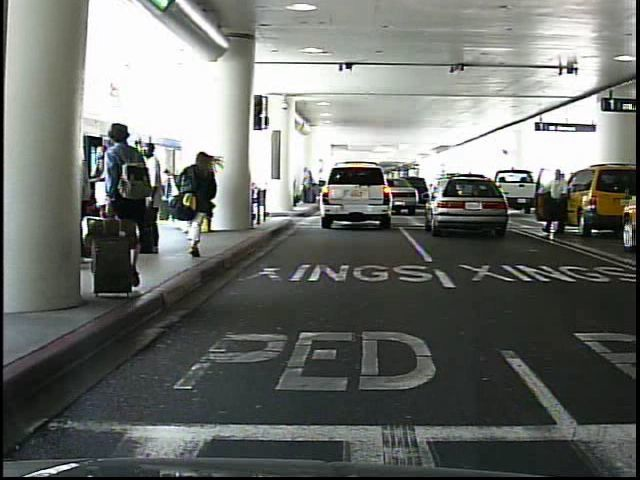person: (96, 117, 149, 296), (181, 145, 223, 265), (136, 141, 168, 253), (168, 157, 196, 233), (547, 172, 571, 238)
